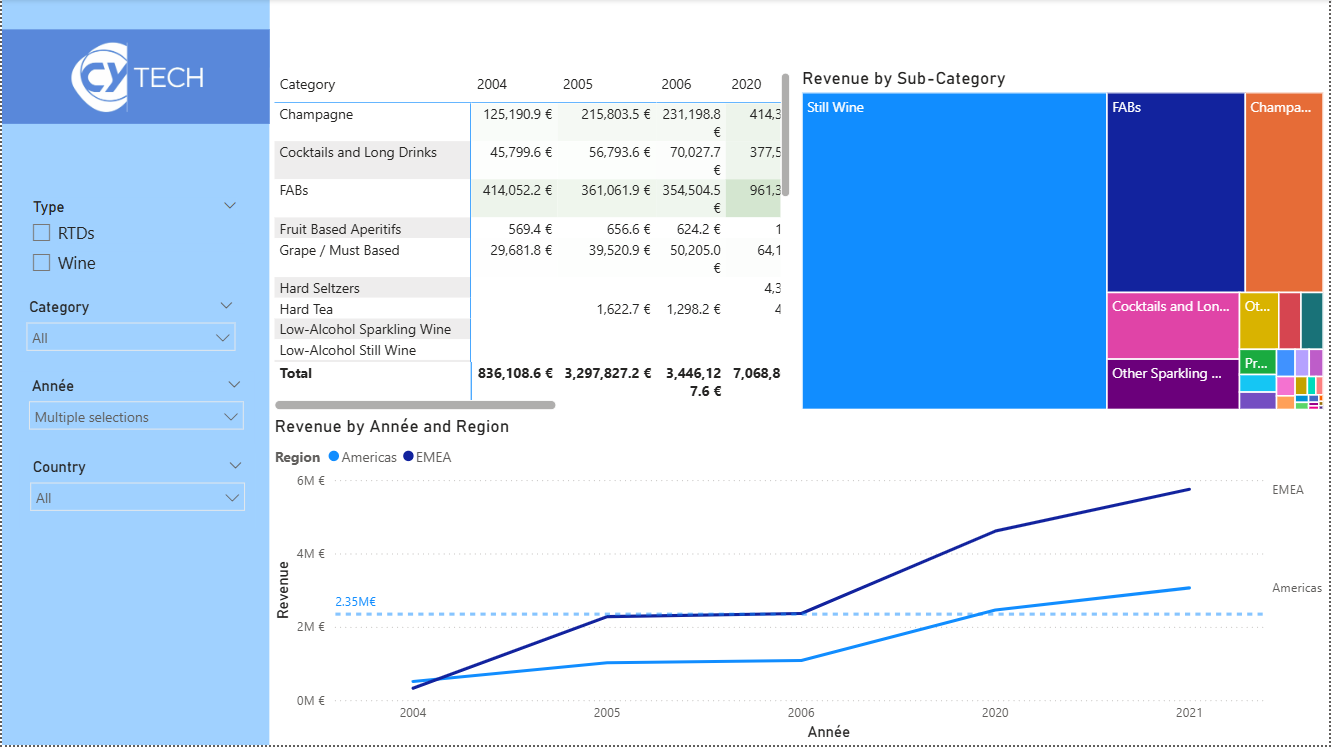

This screenshot's page, from the dashboard's own definition file:
{"tool":"powerbi","page":{"name":"Page 2","canvas":[1280,720],"ordinal":1},"visuals":[{"type":"textbox","box":[0,0,258.8,720],"z":0},{"type":"pivotTable","fields":{"Rows":["Data.Category"],"Columns":["Data.Année"],"Values":["Sum(Data.Montant)"]},"box":[258.8,66.2,507.5,335],"z":1000},{"type":"lineChart","fields":{"Y":["Sum(Data.Montant)"],"Category":["Data.Année"],"Series":["Country.Region"]},"box":[258.8,401.2,1021.2,318.8],"z":2000},{"type":"image","box":[0,17.5,258.8,113.8],"z":3000},{"type":"treemap","fields":{"Values":["Sum(Data.Montant)"],"Group":["Data.Sub-Category"]},"box":[767,66,513,335],"z":4000},{"type":"slicer","fields":{"Values":["Data.Category"]},"box":[13.7,284,222.3,75.5],"z":5000},{"type":"slicer","fields":{"Values":["Data.Type"]},"box":[16.5,186.6,222.3,91.9],"z":6000},{"type":"slicer","fields":{"Values":["Data.Année"]},"box":[15.1,359.5,227.8,70],"z":7000},{"type":"slicer","fields":{"Values":["Data.Country"]},"box":[16.5,437.7,227.8,72.7],"z":8000}]}

Visuals, with their boxes on the page's 1280x720 design canvas (x1, y1, x2, y2). These are canvas units, not pixel positions in the 1332x748 screenshot, which may show the page scaled, cropped or inside an application window:
textbox: 0 0 259 720
pivotTable - Data.Category x Data.Année: 259 66 766 401
lineChart - Sum(Data.Montant) x Data.Année: 259 401 1280 720
image: 0 18 259 131
treemap - Sum(Data.Montant) x Data.Sub-Category: 767 66 1280 401
slicer - Data.Category: 14 284 236 360
slicer - Data.Type: 16 187 239 278
slicer - Data.Année: 15 360 243 430
slicer - Data.Country: 16 438 244 510
